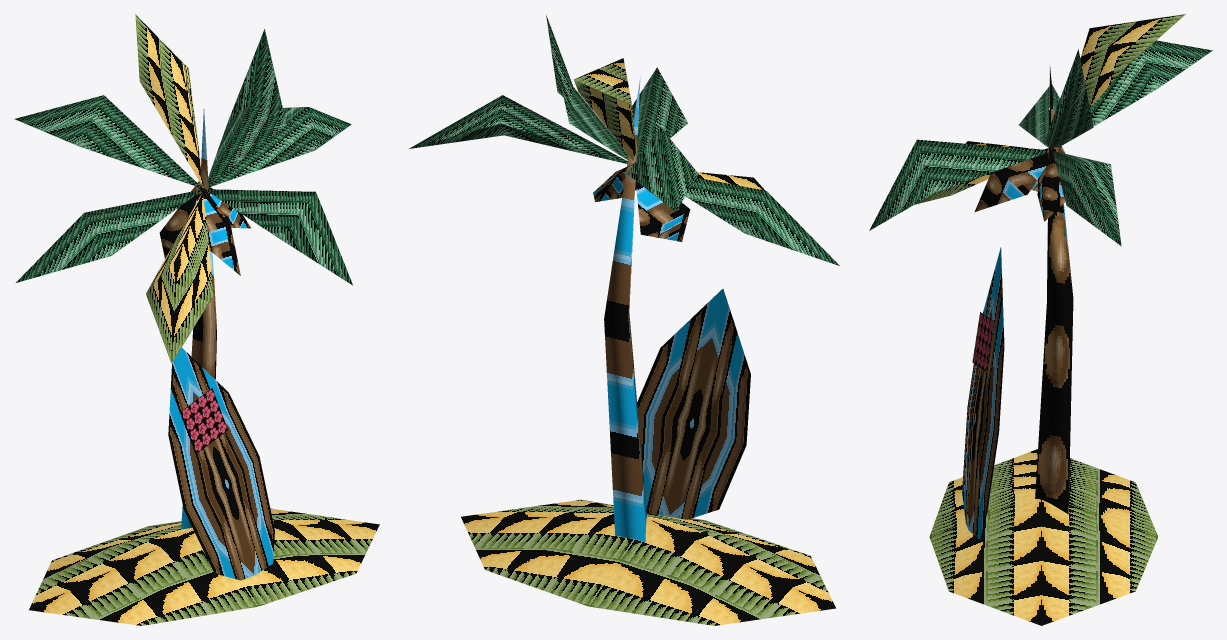
3 views of the same model, side by side, from view 1: azimuth 30°, elevation 25°; view 2: azimuth 150°, elevation 25°; view 3: azimuth 270°, elevation 25° (orthographic). The views are drawn at different scales.
Parts seen in each view (by area): view 1: 3212kg_sh2_04; view 2: 3212kg_sh2_04; view 3: 3212kg_sh2_04.
Part boxes in pixels (x1,y1,x2,y2): 3212kg_sh2_04: (14, 14, 379, 625); 3212kg_sh2_04: (409, 15, 839, 625); 3212kg_sh2_04: (869, 14, 1212, 625).
Bounding box in the file's own units: 1.94 × 2.54 × 1.5.
4 materials, 4 textured.
